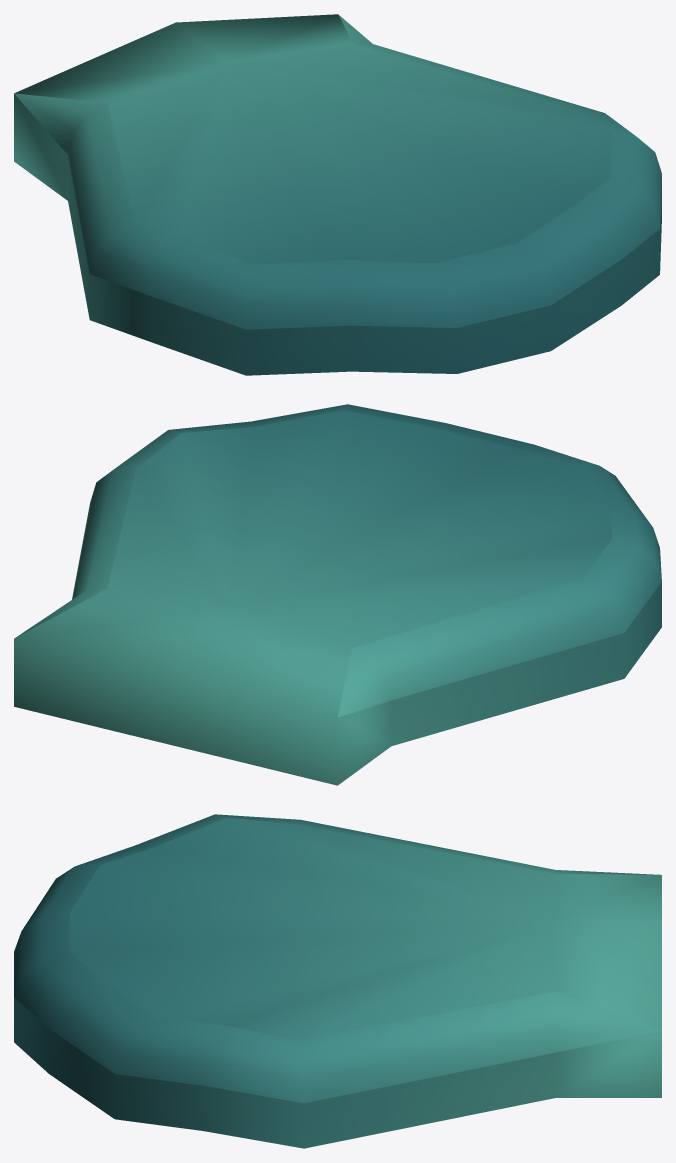
The model's file is SM_Shell_001.fbx.
The picture shows the model from 3 angles, top to bottom: view 1: azimuth 30°, elevation 25°; view 2: azimuth 150°, elevation 25°; view 3: azimuth 270°, elevation 25°; orthographic projection.
Parts seen in each view (by area): view 1: Shell_001; view 2: Shell_001; view 3: Shell_001.
Boxes of the visible parts, x1=… form: Shell_001: x1=14, y1=14, x2=661, y2=375; Shell_001: x1=14, y1=404, x2=661, y2=785; Shell_001: x1=14, y1=814, x2=661, y2=1148.
Bounding box in the file's own units: 125 × 22.15 × 133.
1 material, 1 textured.
